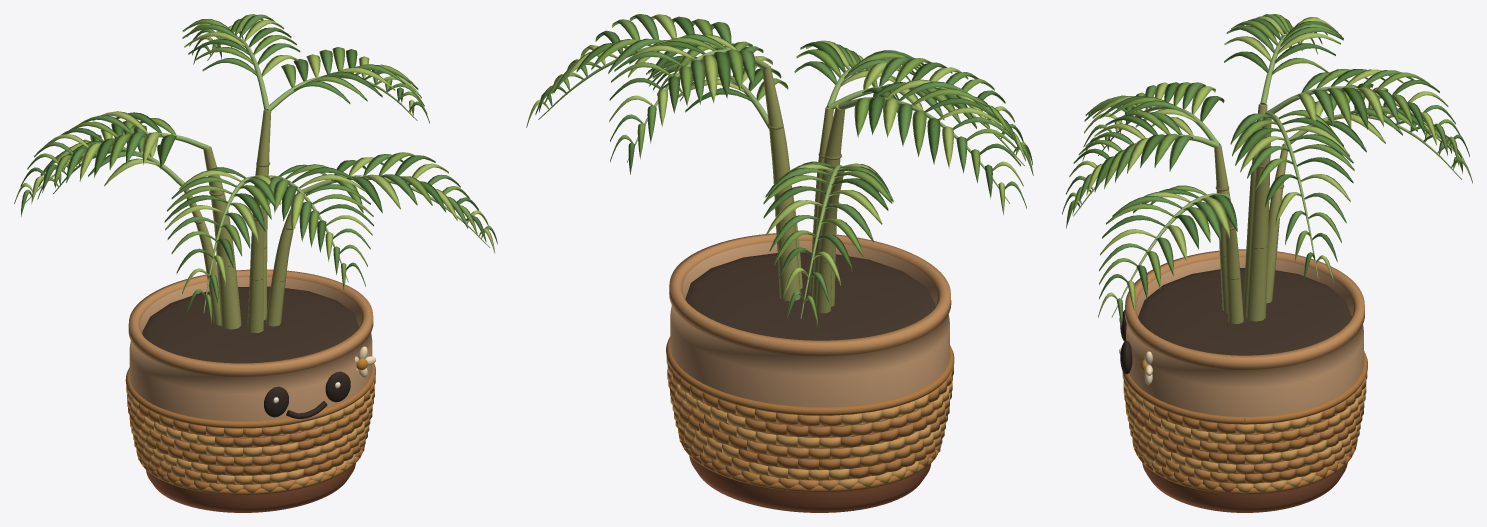
File: areca-palm-v1.glb
3 renders of one model, left to right at view 1: azimuth 30°, elevation 25°; view 2: azimuth 150°, elevation 25°; view 3: azimuth 270°, elevation 25°, orthographic. The views are drawn at different scales.
Visible parts, largest first — view 1: Round-bellied canteen ceramic, Woven rattan sleeve, Soil surface, Forward left spray · paired feather leaflets, Broad left split · paired feather leaflets, Soft near curtain · paired feather leaflets, Right foreground fan · paired feather leaflets, Broad right split · paired feather leaflets, Tall center sweep · paired feather leaflets, Cluster cane 0, Rolled basket binding.001, Cluster cane 2 (+7 smaller); view 2: Round-bellied canteen ceramic, Woven rattan sleeve, Soil surface, Broad left split · paired feather leaflets, Back left silhouette · paired feather leaflets, Tall center sweep · paired feather leaflets, Broad right split · paired feather leaflets, Forward left spray · paired feather leaflets, Cluster cane 1, Rolled basket binding.001, Soft near curtain · paired feather leaflets, Right foreground fan · paired feather leaflets (+4 smaller); view 3: Round-bellied canteen ceramic, Woven rattan sleeve, Soil surface, Broad right split · paired feather leaflets, Right foreground fan · paired feather leaflets, Tall center sweep · paired feather leaflets, Soft near curtain · paired feather leaflets, Broad left split · paired feather leaflets, Forward left spray · paired feather leaflets, Cluster cane 1, Rolled basket binding.001, Back left silhouette · paired feather leaflets (+8 smaller).
Boxes of the visible parts, x1=… form: Round-bellied canteen ceramic: x1=128, y1=269, x2=373, y2=512; Woven rattan sleeve: x1=126, y1=377, x2=375, y2=493; Soil surface: x1=142, y1=286, x2=359, y2=363; Forward left spray · paired feather leaflets: x1=164, y1=167, x2=280, y2=323; Broad left split · paired feather leaflets: x1=14, y1=111, x2=176, y2=216; Soft near curtain · paired feather leaflets: x1=258, y1=164, x2=373, y2=290; Right foreground fan · paired feather leaflets: x1=331, y1=152, x2=497, y2=253; Broad right split · paired feather leaflets: x1=281, y1=47, x2=429, y2=123; Tall center sweep · paired feather leaflets: x1=182, y1=14, x2=300, y2=76; Cluster cane 0: x1=203, y1=146, x2=241, y2=329; Rolled basket binding.001: x1=125, y1=363, x2=375, y2=428; Cluster cane 2: x1=247, y1=186, x2=264, y2=332; Round-bellied canteen ceramic: x1=669, y1=232, x2=951, y2=512; Woven rattan sleeve: x1=666, y1=357, x2=953, y2=490; Soil surface: x1=685, y1=252, x2=935, y2=340; Broad left split · paired feather leaflets: x1=854, y1=79, x2=1026, y2=215; Back left silhouette · paired feather leaflets: x1=763, y1=161, x2=893, y2=326; Tall center sweep · paired feather leaflets: x1=609, y1=34, x2=755, y2=174; Broad right split · paired feather leaflets: x1=526, y1=14, x2=731, y2=127; Forward left spray · paired feather leaflets: x1=862, y1=57, x2=1033, y2=175; Cluster cane 1: x1=762, y1=65, x2=800, y2=301; Rolled basket binding.001: x1=666, y1=336, x2=954, y2=415; Soft near curtain · paired feather leaflets: x1=794, y1=40, x2=923, y2=99; Right foreground fan · paired feather leaflets: x1=646, y1=41, x2=788, y2=112; Round-bellied canteen ceramic: x1=1124, y1=249, x2=1364, y2=512; Woven rattan sleeve: x1=1122, y1=372, x2=1367, y2=493; Soil surface: x1=1138, y1=268, x2=1351, y2=355; Broad right split · paired feather leaflets: x1=1230, y1=110, x2=1354, y2=282; Right foreground fan · paired feather leaflets: x1=1098, y1=185, x2=1237, y2=327; Tall center sweep · paired feather leaflets: x1=1296, y1=69, x2=1469, y2=166; Soft near curtain · paired feather leaflets: x1=1062, y1=111, x2=1193, y2=228; Broad left split · paired feather leaflets: x1=1224, y1=14, x2=1343, y2=74; Forward left spray · paired feather leaflets: x1=1082, y1=82, x2=1224, y2=160; Cluster cane 1: x1=1246, y1=113, x2=1271, y2=321; Rolled basket binding.001: x1=1122, y1=351, x2=1367, y2=424; Back left silhouette · paired feather leaflets: x1=1315, y1=83, x2=1472, y2=183.
Bounding box in the file's own units: 2.91 × 2.63 × 2.36.
